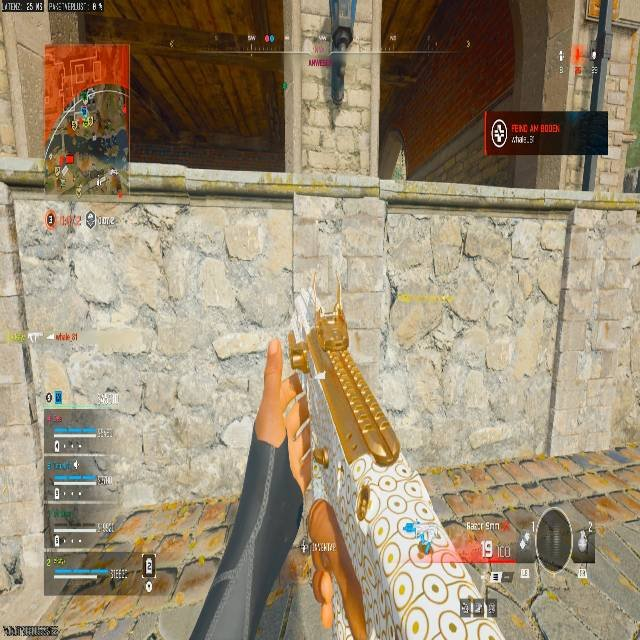player: (41, 89, 130, 199)
